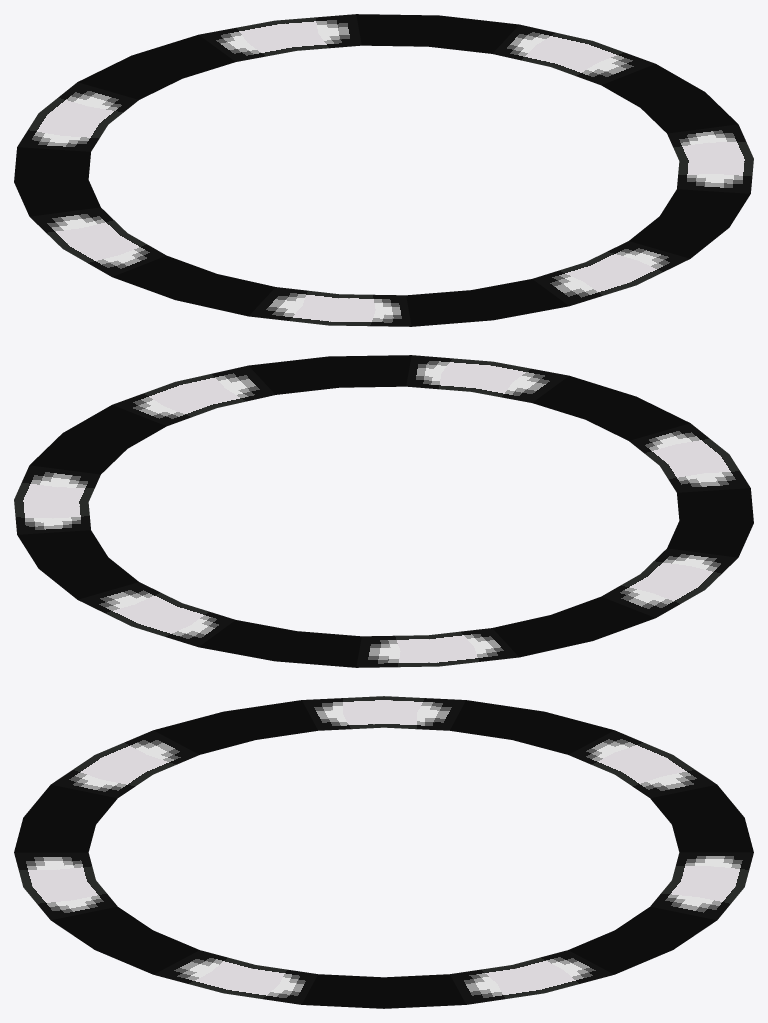
File: audio_log_small_icon_spinning.dae
3 renders of one model, top to bottom at view 1: azimuth 30°, elevation 25°; view 2: azimuth 150°, elevation 25°; view 3: azimuth 270°, elevation 25°, orthographic.
Parts seen in each view (by area): view 1: Mesh; view 2: Mesh; view 3: Mesh.
Part boxes in pixels (x1=…): Mesh: x1=14, y1=14, x2=753, y2=326; Mesh: x1=14, y1=355, x2=753, y2=667; Mesh: x1=14, y1=696, x2=753, y2=1008.
Size of the model in its own units: 0.0804 by 0 by 0.0804.
